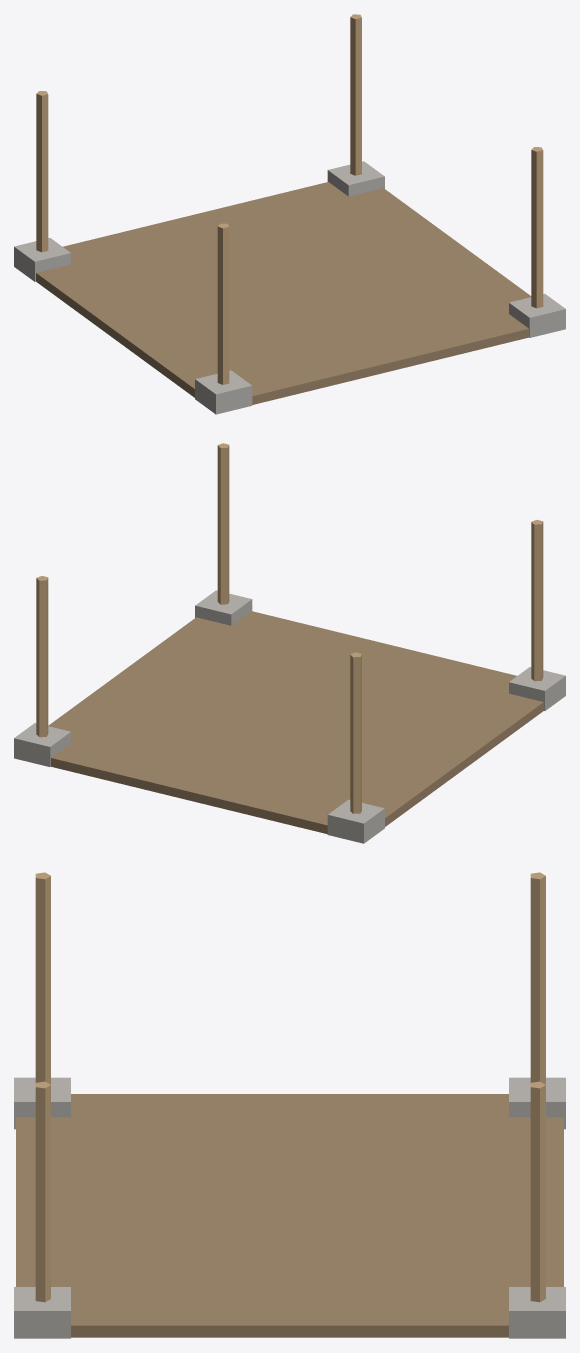
File: building_kiln_frame.glb
The picture shows the model from 3 angles, top to bottom: view 1: azimuth 30°, elevation 25°; view 2: azimuth 150°, elevation 25°; view 3: azimuth 270°, elevation 25°; orthographic projection. The views are drawn at different scales.
Visible parts, largest first — view 1: building_kiln_frame; view 2: building_kiln_frame; view 3: building_kiln_frame.
Boxes of the visible parts, x1,y1,x2,y2 form: building_kiln_frame: [14, 14, 565, 414]; building_kiln_frame: [14, 443, 565, 843]; building_kiln_frame: [14, 872, 565, 1338].
Bounding box in the file's own units: 2.9 × 1.4 × 2.9.
